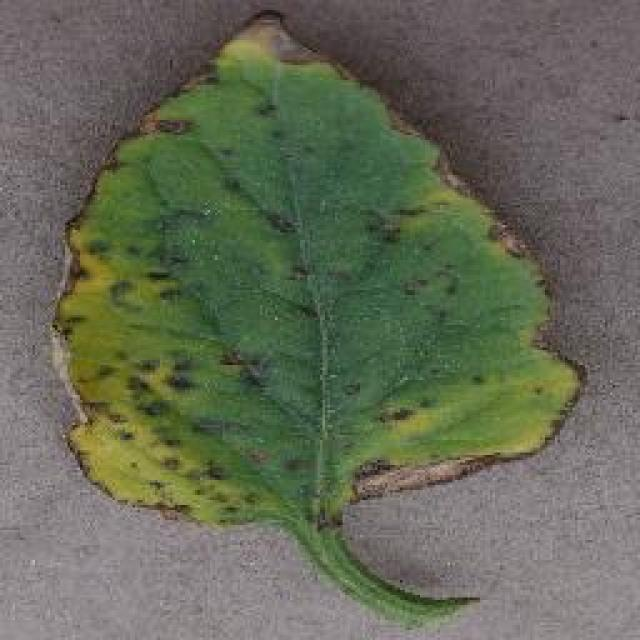Tomato bacterial spot leaf: (39, 6, 594, 622)
